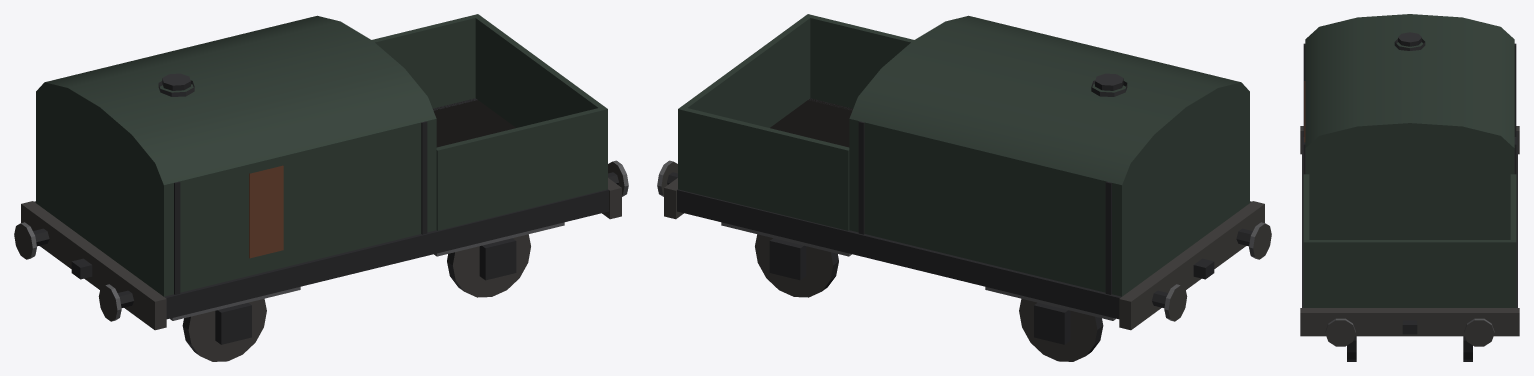
Rendered from wagon_tender.glb.
The picture shows the model from 3 angles, left to right: view 1: azimuth 30°, elevation 25°; view 2: azimuth 150°, elevation 25°; view 3: azimuth 270°, elevation 25°; orthographic projection. The views are drawn at different scales.
Visible parts, largest first — view 1: wagon_tender_LOD0; view 2: wagon_tender_LOD0; view 3: wagon_tender_LOD0.
Part boxes in pixels (x1,y1,x2,y2): wagon_tender_LOD0: [14, 14, 628, 361]; wagon_tender_LOD0: [657, 14, 1271, 361]; wagon_tender_LOD0: [1300, 14, 1519, 361].
Size of what is drawn, in the model's own units: 6 by 2.88 by 2.72.
Materials: 1 (1 with a texture image).
